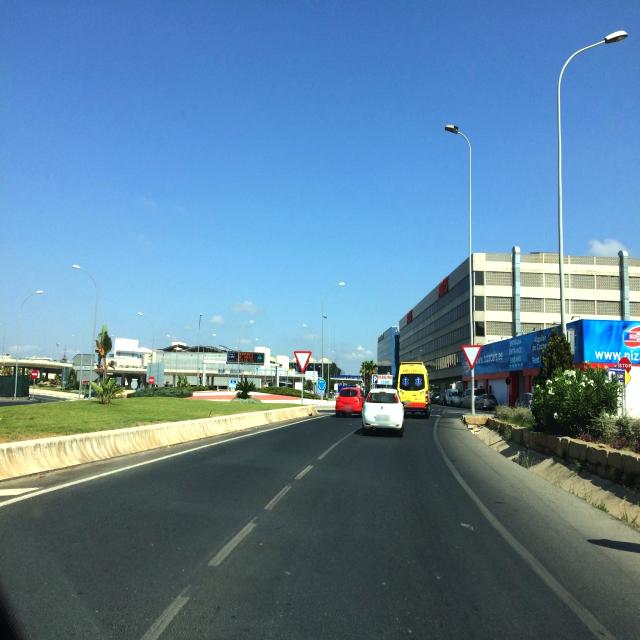car: (362, 388, 405, 437), (396, 361, 431, 418), (335, 387, 365, 417), (462, 387, 485, 409), (479, 392, 498, 410), (514, 392, 534, 408), (449, 390, 464, 407), (430, 391, 442, 404)
